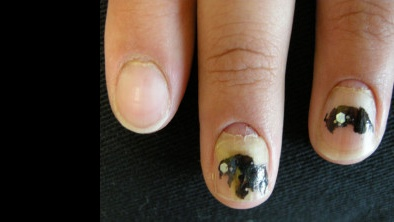SJS-TEN: (297, 59, 394, 178), (203, 102, 283, 210), (103, 43, 174, 94)
